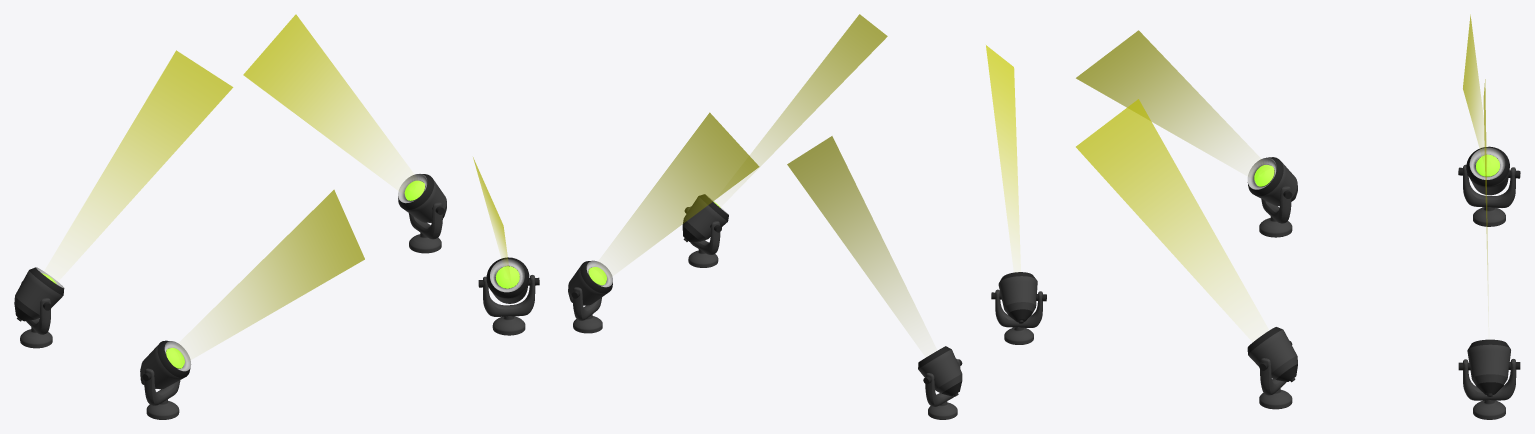
Rendered from MarioAR_DAnce.glb.
3 renders of one model, left to right at view 1: azimuth 30°, elevation 25°; view 2: azimuth 150°, elevation 25°; view 3: azimuth 270°, elevation 25°, orthographic. The views are drawn at different scales.
Visible parts, largest first — view 1: Cube.010, Cube.008, Cube.007, Cube.006; view 2: Cube.008, Cube.010, Cube.006, Cube.007; view 3: Cube.006, Cube.007, Cube.010, Cube.008.
Part boxes in pixels (left/top/right/bottom): Cube.010: left=14, top=50, right=233, bottom=348; Cube.008: left=243, top=14, right=446, bottom=253; Cube.007: left=140, top=189, right=364, bottom=419; Cube.006: left=473, top=157, right=539, bottom=335; Cube.008: left=568, top=112, right=759, bottom=333; Cube.010: left=787, top=136, right=962, bottom=419; Cube.006: left=682, top=14, right=887, bottom=267; Cube.007: left=986, top=45, right=1046, bottom=344; Cube.006: left=1076, top=99, right=1297, bottom=409; Cube.007: left=1076, top=30, right=1297, bottom=237; Cube.010: left=1458, top=14, right=1520, bottom=226; Cube.008: left=1458, top=79, right=1520, bottom=419.
Bounding box in the file's own units: 3.01 × 1.79 × 2.66.
Materials: 5 (1 with a texture image).
